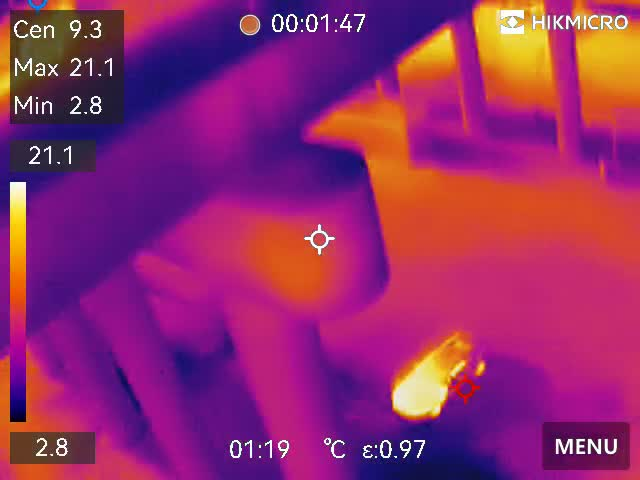vehicle: (380, 326, 485, 421)
